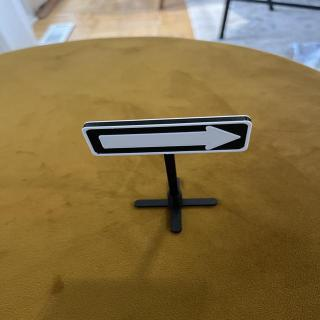sign_oneway_right: (81, 120, 255, 158)
